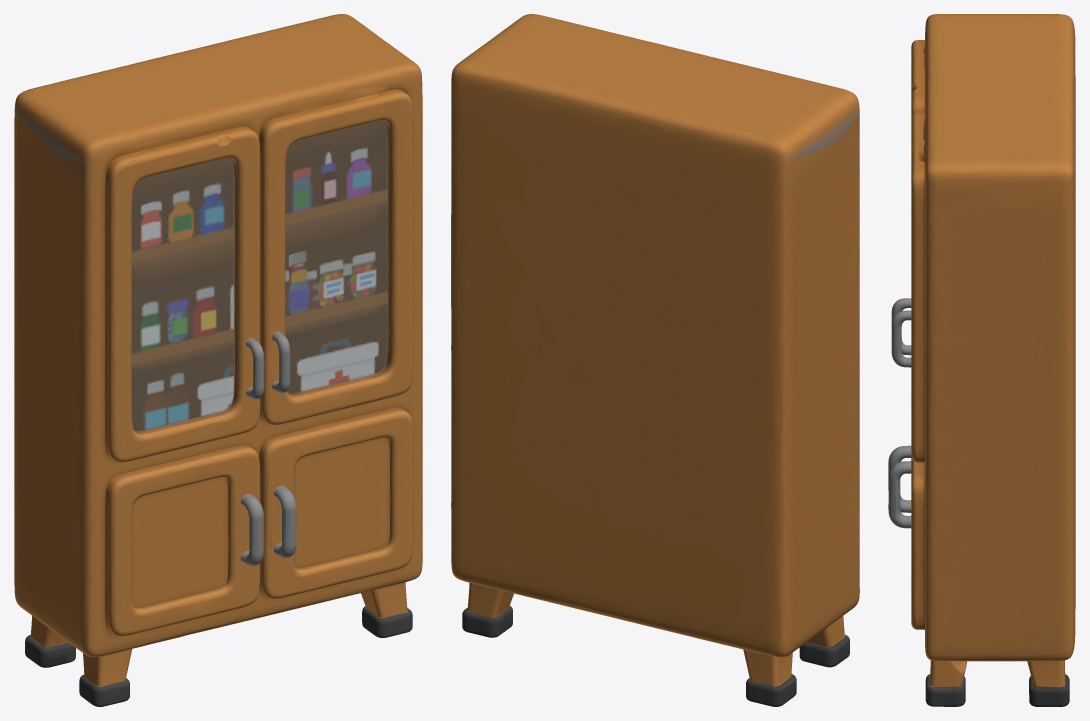
Rendered from Meshy_AI_Medicine_Cabinet_20261029_texture.fbx.
3 views of the same model, side by side, from view 1: azimuth 30°, elevation 25°; view 2: azimuth 150°, elevation 25°; view 3: azimuth 270°, elevation 25° (orthographic). The views are drawn at different scales.
Parts seen in each view (by area): view 1: Mesh_0; view 2: Mesh_0; view 3: Mesh_0.
Part boxes in pixels (x1,y1,x2,y2): Mesh_0: (14,14,422,706); Mesh_0: (451,14,859,706); Mesh_0: (888,14,1075,706).
Size of the model in its own units: 119 by 190 by 59.2.
1 material, 1 textured.
